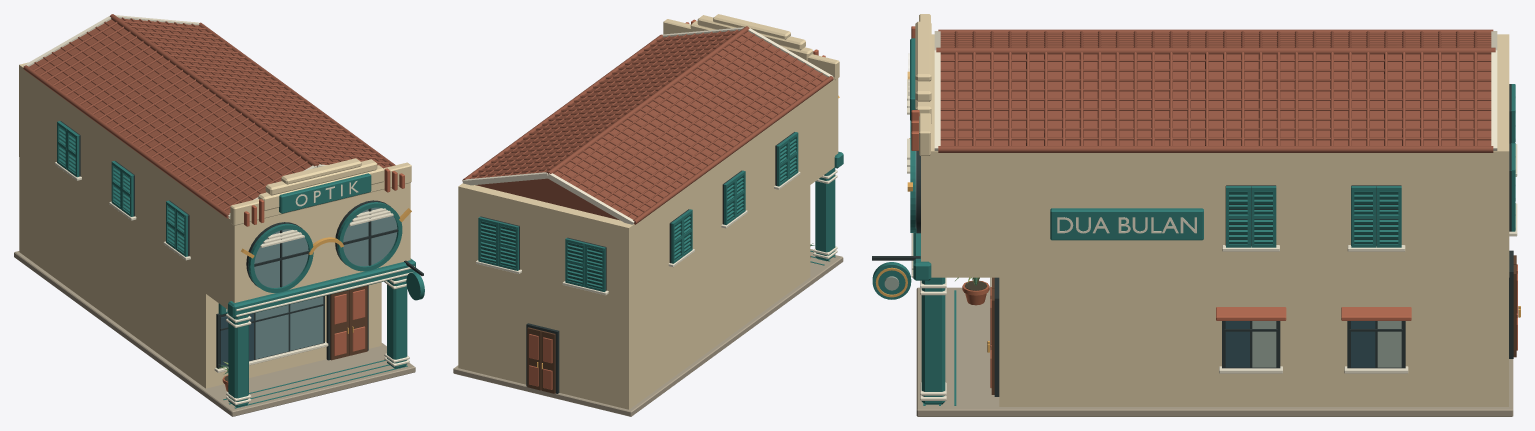
3 views of the same model, side by side, from view 1: azimuth 30°, elevation 25°; view 2: azimuth 150°, elevation 25°; view 3: azimuth 270°, elevation 25° (orthographic). The views are drawn at different scales.
Parts seen in each view (by area): view 1: Limestone party walls, Pitched roof, Terrazzo street elevation, Spectacle relief, Casement assemblies, Louvred shutters, Entrance joinery, Street lettering, Raking bargeboards; view 2: Limestone party walls, Pitched roof, Louvred shutters, Terrazzo street elevation, Entrance joinery, Raking bargeboards; view 3: Limestone party walls, Pitched roof, Louvred shutters, Terrazzo street elevation, Casement assemblies, Street lettering, Spectacle relief, Entrance joinery, Monsoon sunhoods, Raking bargeboards.
Boxes of the visible parts, <box> form: Limestone party walls: <box>14,62,415,416</box>; Pitched roof: <box>23,14,395,218</box>; Terrazzo street elevation: <box>223,158,423,408</box>; Spectacle relief: <box>241,200,424,300</box>; Casement assemblies: <box>214,296,328,372</box>; Louvred shutters: <box>55,121,190,260</box>; Entrance joinery: <box>326,285,368,360</box>; Street lettering: <box>218,173,371,314</box>; Raking bargeboards: <box>23,15,326,218</box>; Limestone party walls: <box>453,77,843,416</box>; Pitched roof: <box>462,26,833,224</box>; Louvred shutters: <box>476,132,800,295</box>; Terrazzo street elevation: <box>663,14,843,265</box>; Entrance joinery: <box>526,323,559,393</box>; Raking bargeboards: <box>462,27,833,224</box>; Limestone party walls: <box>916,34,1513,416</box>; Pitched roof: <box>936,29,1495,152</box>; Louvred shutters: <box>1222,84,1517,251</box>; Terrazzo street elevation: <box>872,14,956,405</box>; Casement assemblies: <box>990,277,1408,373</box>; Street lettering: <box>908,38,1203,240</box>; Spectacle relief: <box>872,71,920,299</box>; Entrance joinery: <box>987,250,1520,396</box>; Monsoon sunhoods: <box>1216,307,1411,320</box>; Raking bargeboards: <box>934,31,1497,150</box>.
Bounding box in the file's own units: 7.2 × 7.92 × 15.11.
